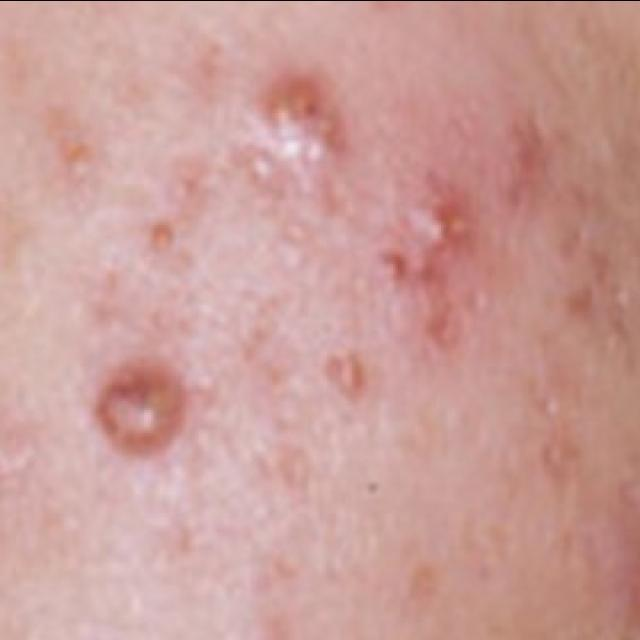acne: (366, 188, 487, 380), (217, 55, 336, 235), (62, 358, 215, 466), (492, 96, 580, 220), (114, 199, 198, 297), (50, 102, 96, 212)
